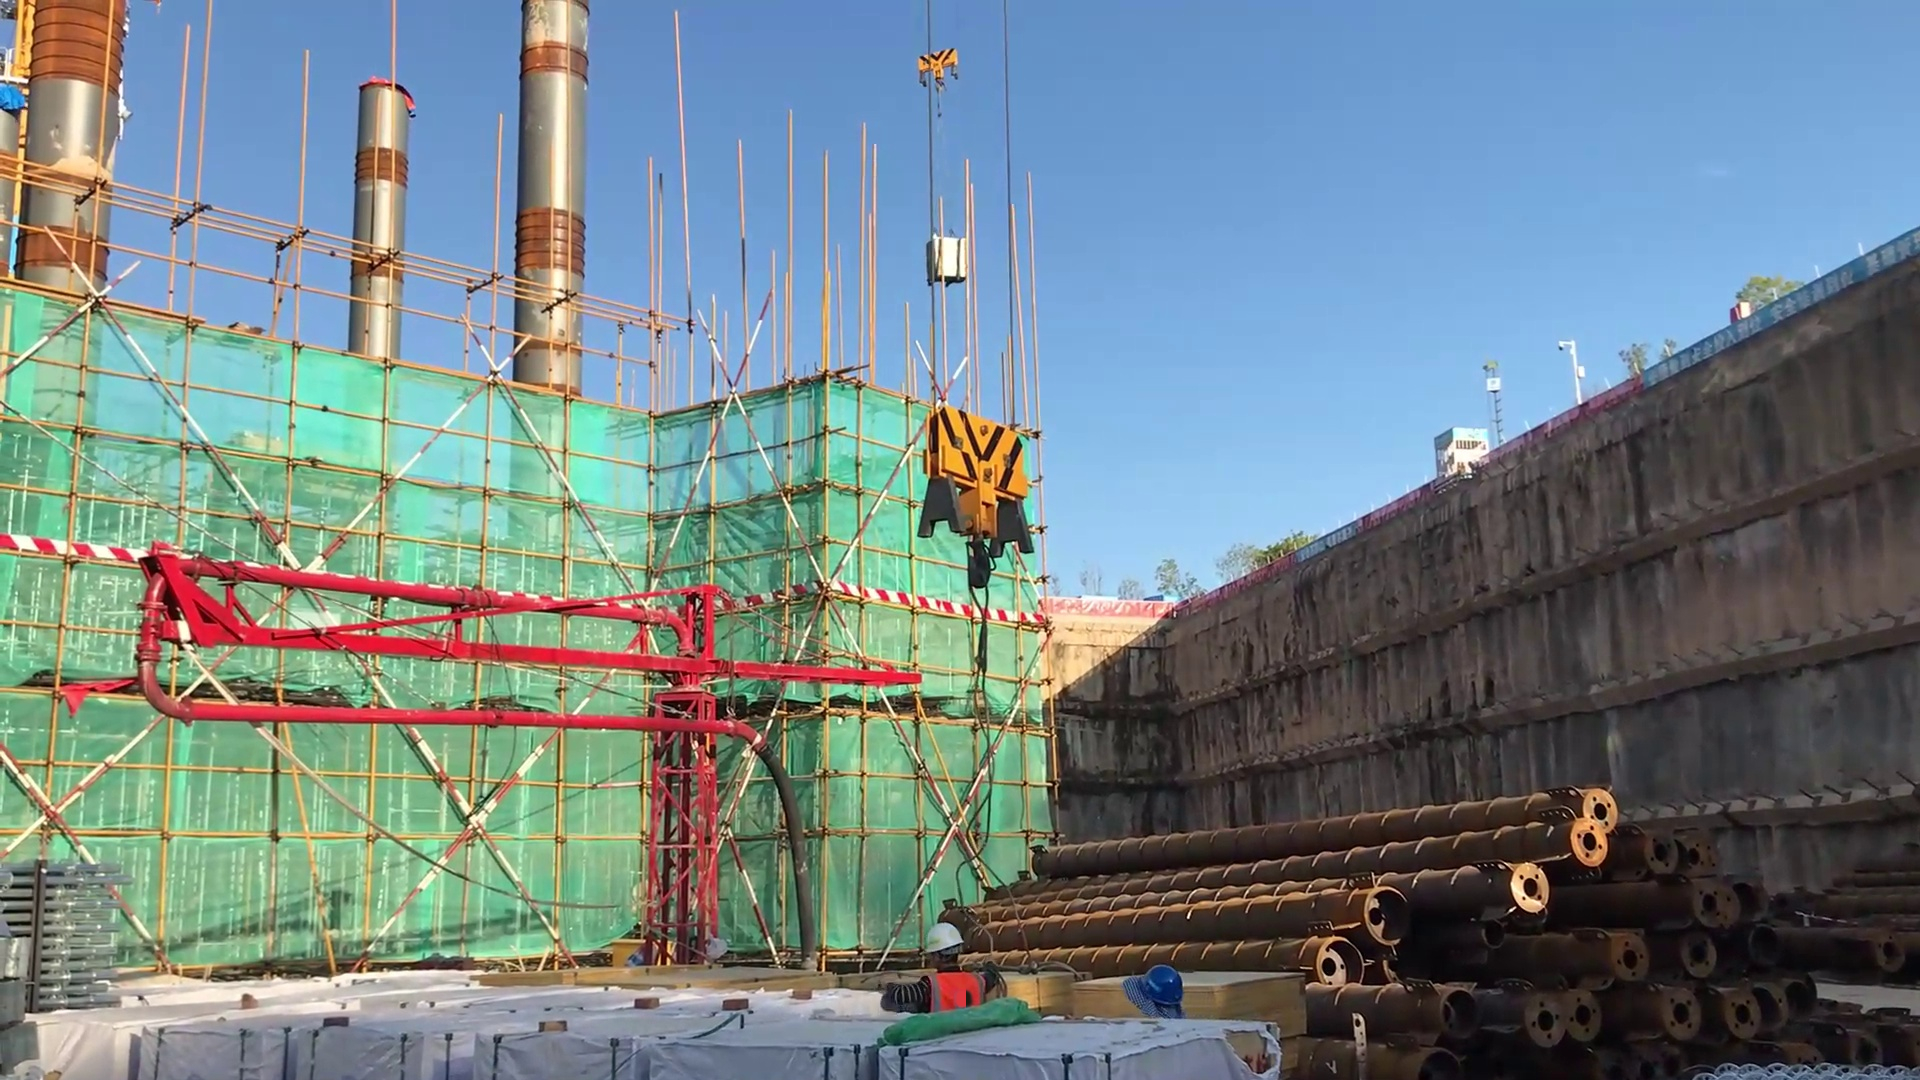board: (1083, 972, 1308, 1020), (993, 967, 1079, 1018)
ebox: (611, 937, 675, 967)
helmet: (1125, 957, 1191, 1013), (918, 922, 969, 973)
hook: (897, 388, 1054, 605), (904, 38, 986, 113)
person: (880, 923, 1002, 1039)
scaffold: (11, 846, 127, 1028)
slogan: (1631, 203, 1920, 401), (1290, 513, 1383, 570)
vest: (913, 967, 996, 1024)
